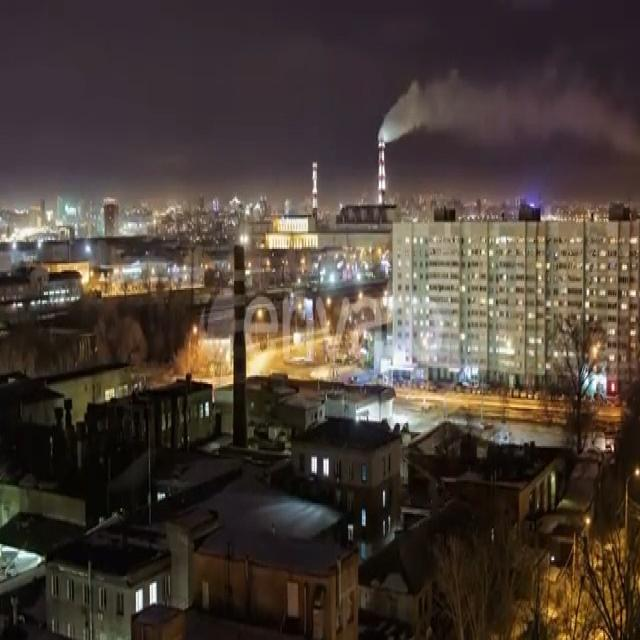smoke: (378, 68, 639, 155)
